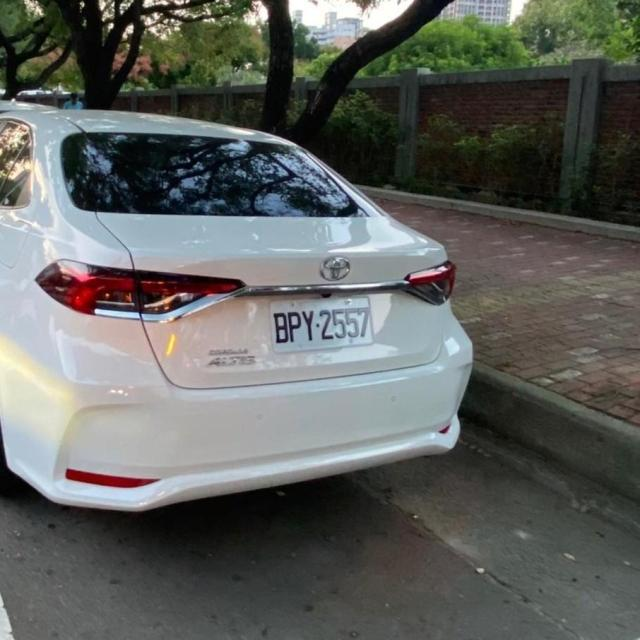W: (263, 284, 375, 353)
